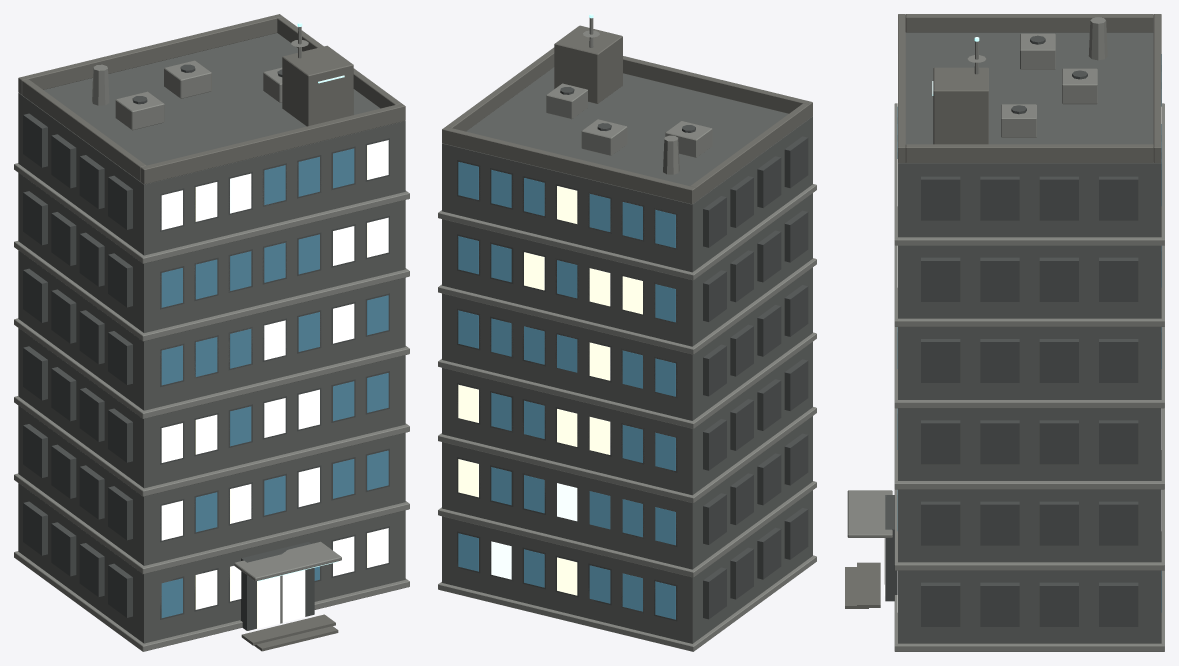
The model's file is office_block_a.glb.
3 views of the same model, side by side, from view 1: azimuth 30°, elevation 25°; view 2: azimuth 150°, elevation 25°; view 3: azimuth 270°, elevation 25° (orthographic). The views are drawn at different scales.
Visible parts, largest first — view 1: office_block_a_Graphite@utility, office_block_a_DarkAlloy@utility, office_block_a_Steel@utility, office_block_a_Concrete@utility, office_block_a_BlackGlass, office_block_a_WarmGlass, office_block_a_CoolGlass; view 2: office_block_a_Graphite@utility, office_block_a_DarkAlloy@utility, office_block_a_Steel@utility, office_block_a_BlackGlass, office_block_a_Concrete@utility, office_block_a_WarmGlass, office_block_a_CoolGlass; view 3: office_block_a_Graphite@utility, office_block_a_DarkAlloy@utility, office_block_a_Steel@utility, office_block_a_Concrete@utility.
Part boxes in pixels (x1,y1,x2,y2): office_block_a_Graphite@utility: [18, 33, 405, 643]; office_block_a_DarkAlloy@utility: [23, 64, 389, 630]; office_block_a_Steel@utility: [14, 27, 409, 651]; office_block_a_Concrete@utility: [18, 14, 405, 651]; office_block_a_BlackGlass: [161, 148, 388, 617]; office_block_a_WarmGlass: [161, 140, 388, 628]; office_block_a_CoolGlass: [161, 173, 285, 462]; office_block_a_Graphite@utility: [442, 67, 812, 643]; office_block_a_DarkAlloy@utility: [457, 87, 808, 621]; office_block_a_Steel@utility: [438, 18, 816, 651]; office_block_a_BlackGlass: [458, 162, 675, 619]; office_block_a_Concrete@utility: [442, 25, 812, 204]; office_block_a_WarmGlass: [458, 186, 642, 595]; office_block_a_CoolGlass: [491, 483, 577, 579]; office_block_a_Graphite@utility: [898, 32, 1161, 643]; office_block_a_DarkAlloy@utility: [885, 35, 1138, 626]; office_block_a_Steel@utility: [847, 17, 1164, 651]; office_block_a_Concrete@utility: [845, 14, 1161, 608].
Size of the model in its own units: 12.56 by 24.42 by 12.12.
